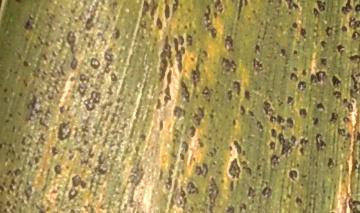tarspot: (157, 34, 173, 85), (127, 170, 145, 210), (171, 35, 185, 74), (277, 132, 298, 157), (161, 69, 174, 108), (206, 175, 219, 213), (82, 90, 102, 112), (232, 140, 248, 167), (177, 78, 191, 104), (189, 105, 205, 127), (189, 63, 202, 90), (57, 120, 72, 143), (227, 157, 241, 180), (102, 46, 113, 74), (220, 56, 237, 74), (65, 29, 76, 53), (194, 162, 209, 179), (185, 180, 200, 196), (260, 98, 273, 116), (79, 115, 91, 134), (339, 1, 354, 16), (36, 115, 49, 132), (95, 30, 108, 47), (172, 105, 187, 119), (246, 185, 257, 204), (67, 187, 80, 203), (223, 34, 235, 51), (252, 56, 264, 73), (269, 153, 281, 170), (315, 69, 327, 85), (348, 197, 360, 213), (330, 74, 342, 90), (85, 12, 95, 31), (140, 1, 150, 20), (75, 83, 87, 98), (348, 16, 360, 31), (149, 1, 158, 20), (162, 1, 171, 20), (165, 169, 174, 188), (349, 73, 359, 90), (96, 163, 108, 177), (314, 132, 322, 153), (346, 53, 360, 65), (287, 168, 298, 183), (69, 56, 79, 72), (231, 80, 241, 96), (89, 56, 101, 69), (110, 26, 121, 40), (261, 185, 272, 199), (202, 4, 211, 21), (187, 125, 197, 140), (284, 1, 299, 11), (106, 81, 115, 97), (315, 101, 327, 113), (201, 85, 212, 98), (315, 1, 328, 12), (36, 132, 46, 146), (21, 188, 31, 202), (70, 173, 80, 187), (284, 116, 294, 130), (236, 201, 247, 213), (96, 151, 106, 164), (100, 99, 113, 109), (179, 140, 189, 153), (329, 111, 339, 124), (29, 94, 37, 110), (236, 1, 242, 22), (309, 73, 318, 87), (52, 164, 63, 175), (241, 165, 252, 176), (296, 80, 307, 91), (336, 127, 347, 138), (23, 18, 33, 30), (78, 73, 90, 83), (255, 118, 263, 133), (298, 107, 308, 119), (348, 90, 360, 100), (58, 35, 65, 52), (177, 185, 186, 198), (318, 138, 327, 151), (326, 156, 335, 169), (299, 27, 308, 40), (155, 16, 163, 30), (185, 34, 193, 48), (87, 202, 97, 213), (208, 27, 218, 38), (288, 73, 299, 83), (275, 114, 285, 125), (224, 203, 235, 213), (294, 195, 304, 206), (318, 56, 328, 67), (335, 43, 345, 54), (350, 30, 360, 41), (35, 34, 44, 46), (311, 6, 320, 18), (154, 97, 162, 110), (238, 104, 246, 117), (12, 167, 22, 177), (200, 49, 210, 59), (332, 90, 342, 100), (50, 145, 59, 156), (109, 70, 118, 81), (120, 121, 129, 132), (268, 114, 277, 125), (267, 140, 276, 151), (78, 157, 90, 165), (171, 1, 179, 13), (177, 34, 185, 46), (243, 89, 251, 101), (346, 101, 354, 113), (324, 25, 331, 38), (278, 47, 287, 57), (72, 146, 83, 154), (196, 53, 204, 64), (225, 90, 233, 101), (253, 43, 261, 54), (286, 94, 294, 105), (298, 146, 306, 157), (44, 105, 51, 117), (58, 64, 65, 76), (87, 146, 94, 158), (103, 109, 110, 121), (67, 152, 76, 161), (196, 140, 205, 149), (169, 150, 178, 159), (246, 109, 255, 118), (15, 51, 23, 61), (21, 78, 29, 88), (52, 84, 60, 94), (79, 179, 87, 189), (319, 39, 327, 49), (340, 96, 348, 106), (342, 116, 352, 124), (228, 180, 234, 193), (133, 145, 140, 156), (157, 169, 164, 180), (270, 128, 277, 139), (91, 166, 99, 175), (69, 6, 78, 14), (138, 133, 146, 142), (158, 119, 164, 131), (117, 46, 125, 55), (171, 131, 180, 139), (19, 135, 26, 145), (26, 159, 33, 169), (58, 104, 65, 114), (204, 20, 211, 30), (355, 129, 360, 142), (21, 59, 29, 67), (45, 198, 53, 206), (111, 1, 119, 9), (213, 1, 221, 9), (33, 156, 40, 165), (30, 71, 39, 78), (40, 182, 47, 191), (178, 152, 185, 161), (130, 167, 139, 174), (174, 169, 181, 178), (300, 68, 307, 77), (312, 117, 319, 126), (34, 108, 44, 114), (182, 196, 188, 206), (231, 118, 237, 128), (277, 98, 283, 108), (298, 136, 304, 146), (41, 53, 48, 61), (46, 94, 54, 101), (2, 95, 9, 103), (8, 184, 15, 192), (26, 185, 33, 193), (82, 138, 89, 146), (207, 112, 214, 120), (215, 169, 223, 176), (255, 163, 263, 170), (291, 21, 298, 29), (340, 24, 347, 32), (46, 167, 51, 178), (98, 126, 103, 137), (47, 22, 53, 31), (82, 204, 88, 213), (167, 59, 173, 68), (169, 161, 175, 170), (241, 149, 247, 158), (354, 3, 360, 12), (58, 24, 63, 34), (102, 137, 107, 147), (180, 167, 185, 177), (24, 116, 31, 123), (28, 111, 35, 118), (25, 141, 32, 148), (10, 177, 17, 184), (291, 66, 298, 73), (345, 132, 352, 139), (10, 125, 16, 133), (26, 134, 34, 140), (39, 73, 45, 81), (47, 71, 55, 77), (37, 207, 45, 213), (68, 75, 76, 81), (92, 128, 98, 136), (110, 111, 118, 117), (89, 176, 95, 184), (99, 203, 105, 211), (212, 11, 218, 19), (211, 146, 217, 154), (292, 48, 298, 56), (300, 173, 308, 179), (49, 189, 58, 194), (73, 131, 78, 140), (141, 20, 146, 29), (179, 123, 184, 132), (178, 198, 183, 207), (303, 137, 308, 146), (284, 56, 289, 65), (17, 90, 23, 97), (5, 169, 11, 176), (49, 13, 56, 19), (45, 206, 52, 212), (105, 14, 111, 21), (114, 104, 120, 111), (120, 154, 126, 161), (108, 142, 115, 148), (115, 96, 121, 103), (190, 156, 196, 163), (188, 56, 195, 62), (191, 28, 197, 35), (218, 8, 224, 15), (206, 97, 212, 104), (211, 159, 217, 166), (227, 145, 234, 151), (256, 171, 263, 177), (326, 194, 332, 201), (352, 164, 359, 170), (338, 145, 345, 151), (45, 84, 50, 92), (68, 208, 76, 213), (23, 35, 29, 41), (30, 79, 36, 85), (38, 90, 44, 96), (34, 165, 40, 171), (87, 163, 93, 169), (88, 36, 94, 42), (88, 183, 92, 192), (186, 7, 192, 13), (182, 24, 188, 30), (171, 138, 177, 144), (255, 33, 261, 39), (285, 193, 291, 199), (281, 197, 287, 203), (353, 158, 359, 164), (312, 27, 318, 33), (218, 136, 224, 142), (2, 140, 7, 147), (16, 154, 21, 161), (51, 50, 56, 57), (58, 4, 65, 9), (15, 184, 20, 191), (18, 178, 23, 185), (55, 195, 60, 202), (66, 104, 71, 111), (73, 125, 78, 132), (86, 41, 91, 48), (92, 190, 97, 197), (209, 151, 214, 158), (295, 162, 300, 169), (306, 201, 313, 206), (304, 123, 309, 130), (314, 160, 319, 167), (355, 71, 360, 78), (18, 205, 22, 213), (112, 14, 116, 22), (2, 87, 7, 93), (15, 110, 21, 115), (7, 142, 13, 147), (4, 157, 9, 163), (10, 158, 15, 164), (20, 146, 25, 152), (44, 41, 49, 47), (13, 1, 23, 4), (53, 79, 59, 84), (2, 180, 7, 186), (5, 189, 11, 194), (5, 200, 10, 206), (11, 205, 17, 210), (2, 208, 8, 213), (25, 180, 30, 186), (64, 165, 70, 170), (81, 132, 87, 137), (67, 147, 72, 153), (73, 17, 78, 23), (111, 42, 116, 48), (114, 129, 120, 134), (138, 167, 144, 172), (140, 34, 145, 40), (152, 36, 158, 41), (175, 17, 181, 22), (194, 93, 199, 99), (214, 96, 219, 102), (274, 40, 279, 46), (299, 182, 304, 188), (321, 188, 326, 194), (287, 10, 292, 16), (349, 98, 355, 103), (189, 206, 194, 212), (340, 178, 345, 184), (139, 191, 143, 198), (275, 1, 282, 5), (8, 67, 13, 72), (13, 69, 18, 74), (8, 112, 13, 117), (4, 118, 9, 123), (32, 44, 37, 49), (44, 7, 49, 12), (13, 199, 18, 204), (14, 192, 19, 197), (70, 94, 75, 99), (66, 21, 71, 26), (82, 36, 87, 41), (90, 73, 95, 78), (109, 149, 114, 154), (178, 3, 183, 8), (139, 185, 144, 190), (215, 80, 220, 85), (243, 1, 248, 6), (205, 152, 210, 157), (206, 136, 211, 141), (310, 116, 315, 121), (251, 9, 256, 14), (25, 149, 31, 153), (1, 186, 5, 192), (83, 32, 89, 36), (110, 129, 114, 135), (116, 57, 122, 61), (220, 178, 224, 184), (258, 21, 264, 25), (346, 113, 352, 117), (7, 148, 11, 153), (10, 148, 14, 153), (36, 67, 41, 71), (31, 151, 35, 156), (20, 198, 24, 203), (34, 204, 38, 209), (54, 202, 58, 207), (48, 176, 53, 180), (62, 146, 67, 150), (77, 29, 82, 33), (133, 38, 137, 43), (201, 68, 206, 72), (224, 114, 228, 119), (260, 157, 265, 161), (329, 210, 335, 213), (267, 1, 273, 4), (48, 15, 52, 19), (268, 35, 272, 39), (1, 199, 3, 205), (1, 142, 2, 150)
